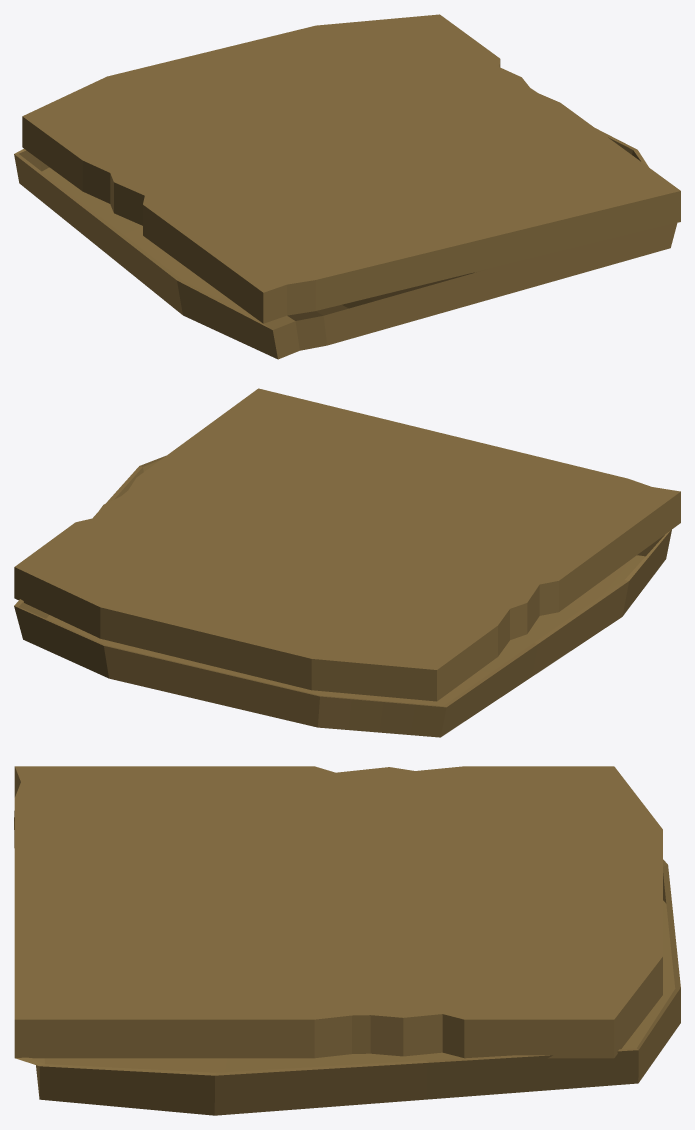
File: CajaPizza_04.fbx
3 views of the same model, one above another, from view 1: azimuth 30°, elevation 25°; view 2: azimuth 150°, elevation 25°; view 3: azimuth 270°, elevation 25° (orthographic). The views are drawn at different scales.
Parts seen in each view (by area): view 1: CajaPizza_04; view 2: CajaPizza_04; view 3: CajaPizza_04.
Part boxes in pixels (bbox=[...]): CajaPizza_04: bbox=[14, 14, 680, 359]; CajaPizza_04: bbox=[14, 388, 680, 737]; CajaPizza_04: bbox=[14, 766, 680, 1115].
Bounding box in the file's own units: 72.52 × 10.35 × 71.3.
